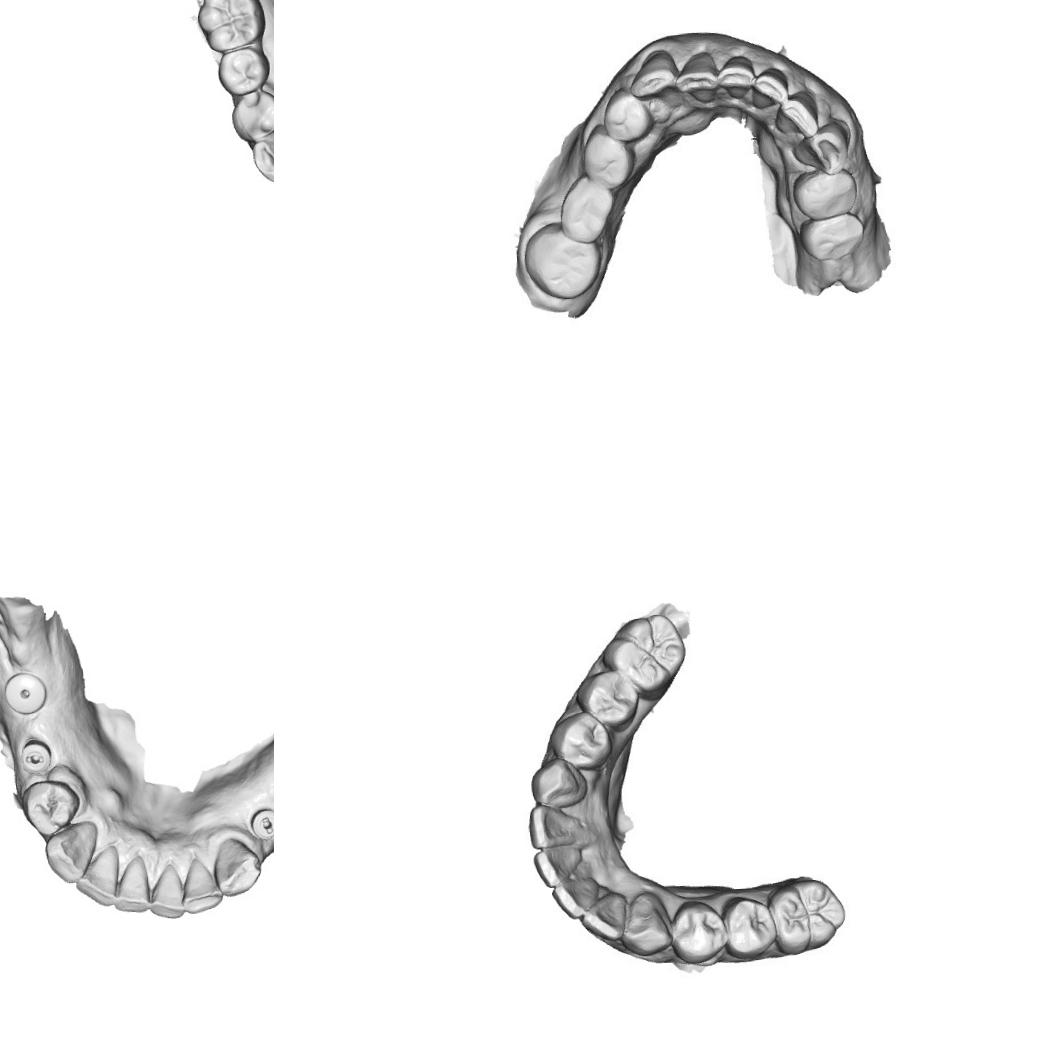canine: (37, 822, 104, 887), (620, 893, 674, 960), (525, 756, 588, 811), (210, 833, 263, 898), (793, 121, 850, 177), (627, 50, 674, 98), (249, 126, 274, 183)
implant: (0, 665, 54, 719)
implant_minus: (12, 729, 54, 774), (245, 803, 274, 844)
incisor: (70, 846, 128, 910), (108, 851, 158, 916), (141, 860, 192, 920), (176, 854, 225, 916), (524, 798, 580, 848), (528, 844, 583, 887), (674, 51, 720, 101), (580, 894, 626, 944), (548, 876, 600, 919), (772, 95, 817, 136), (716, 53, 750, 97), (754, 70, 789, 107)
molar: (597, 608, 684, 700), (767, 873, 848, 956), (522, 225, 602, 302), (194, 0, 267, 52), (557, 179, 614, 244)
premolar: (572, 668, 639, 730), (546, 710, 610, 771), (18, 776, 82, 836), (669, 900, 727, 966), (723, 895, 778, 962), (800, 212, 864, 264), (791, 168, 855, 220), (215, 44, 272, 96), (584, 125, 632, 184), (228, 88, 274, 143), (604, 92, 644, 138)
